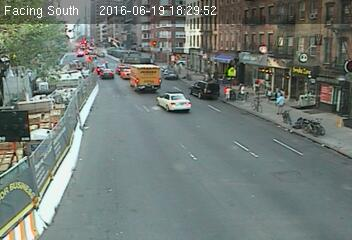neg: (157, 88, 170, 106)
pos: (271, 90, 291, 117)
